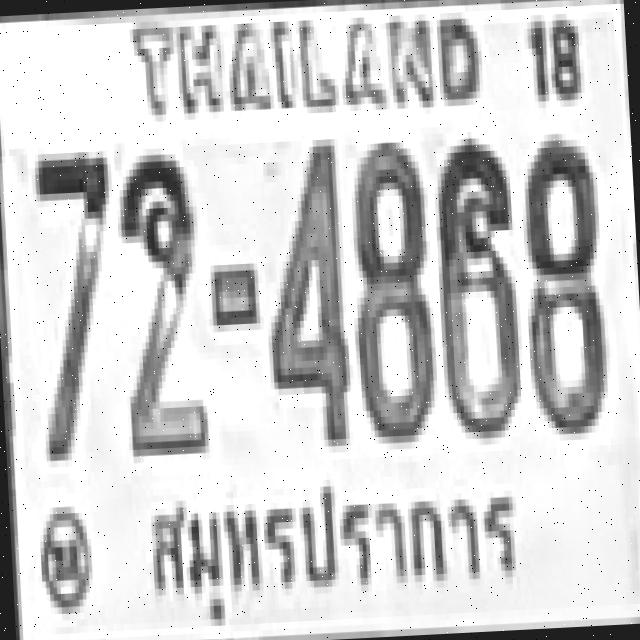2: (112, 147, 204, 450)
4: (258, 132, 350, 442)
6: (428, 137, 520, 434)
7: (29, 144, 120, 454)
8: (345, 134, 437, 438), (517, 133, 608, 430)
SamutPrakan: (145, 466, 527, 624)
